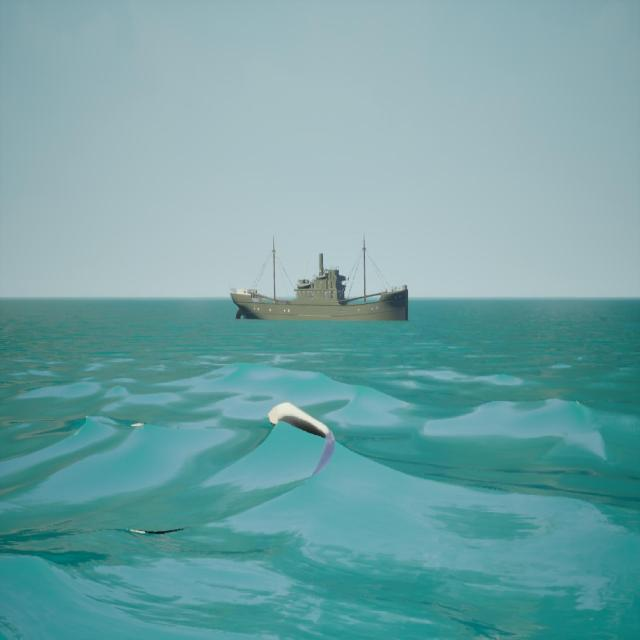fishing ship: (230, 234, 411, 324)
